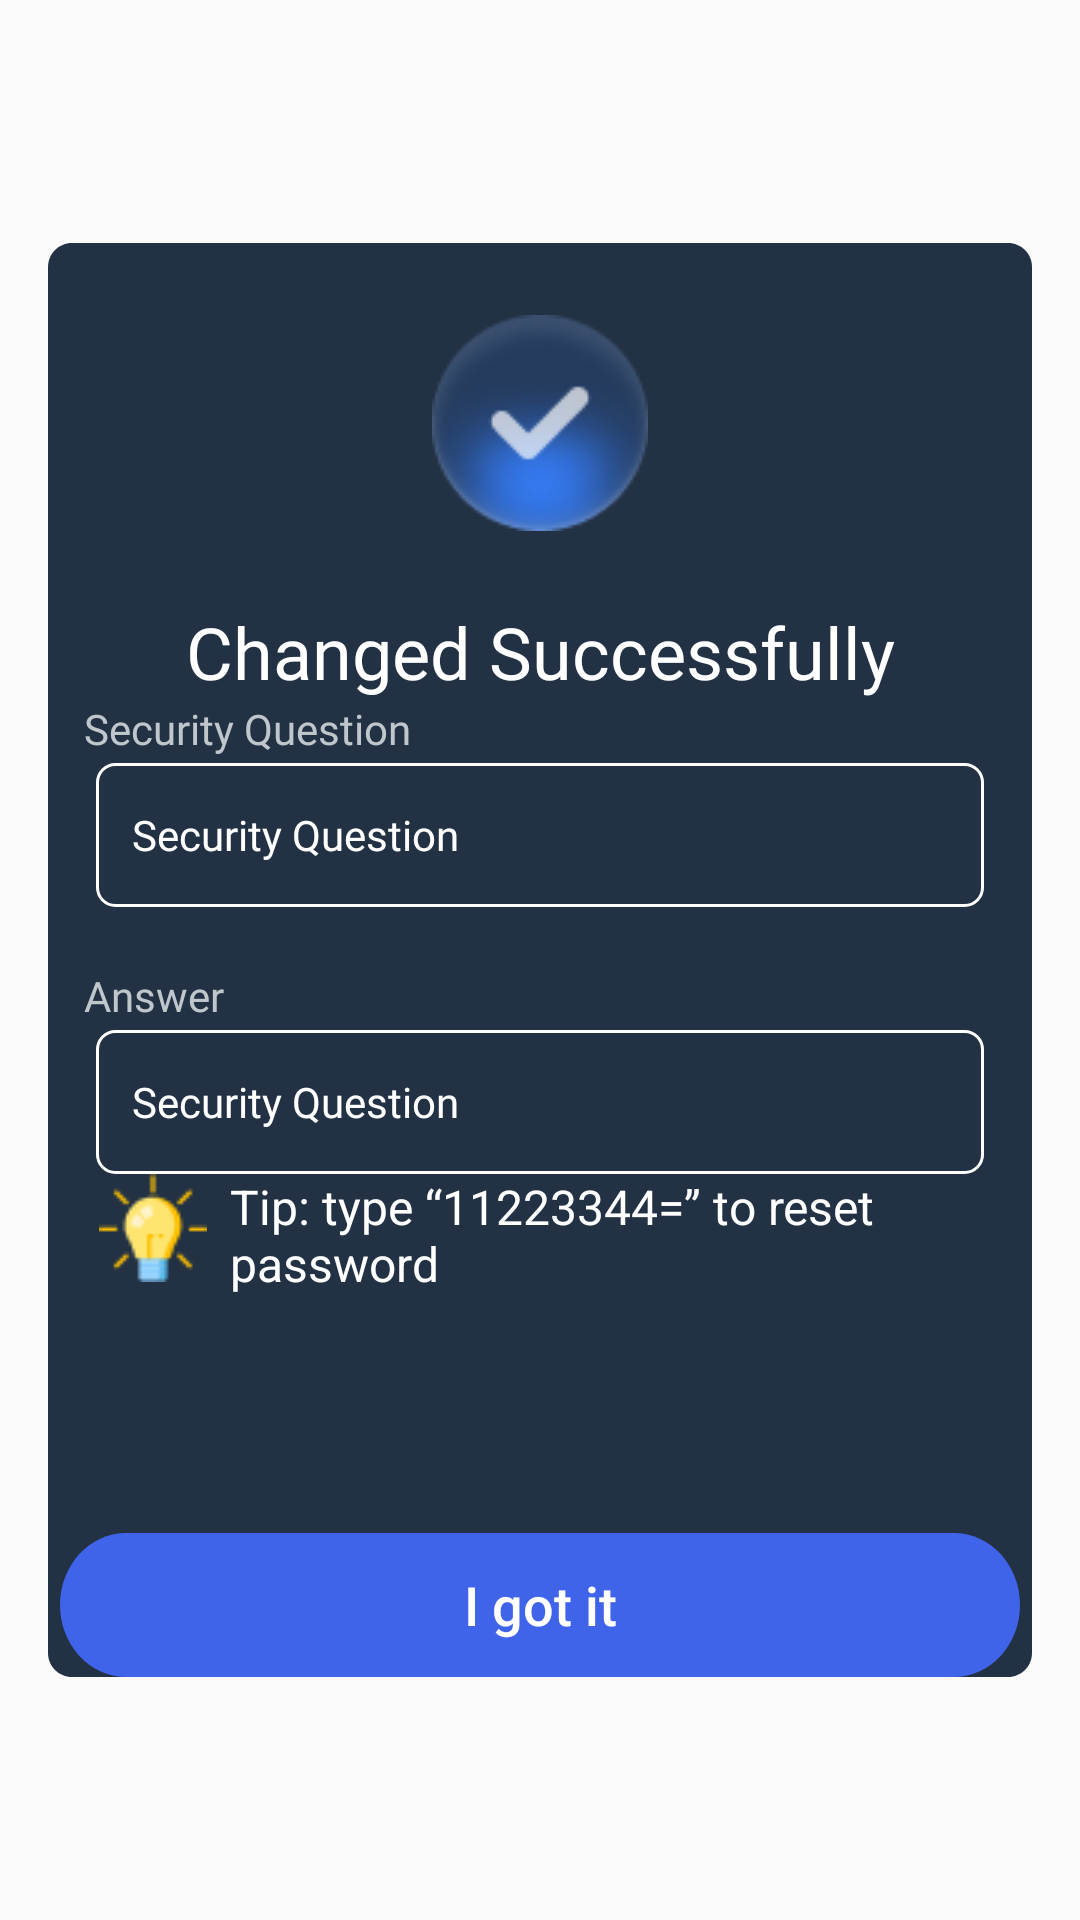

Icons on this 1080 × 1920 Android screen, each with the point to tap as (x=x, y=y):
bulb: (x=153, y=1228)
